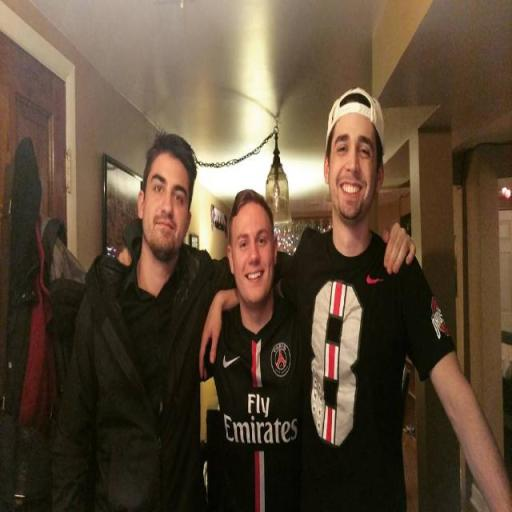Emirates: (220, 390, 298, 446)
